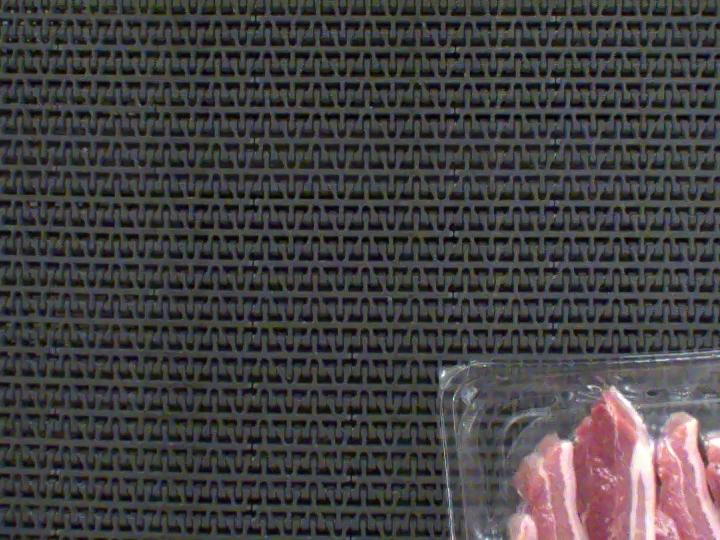unsealed: (435, 353, 720, 540)
